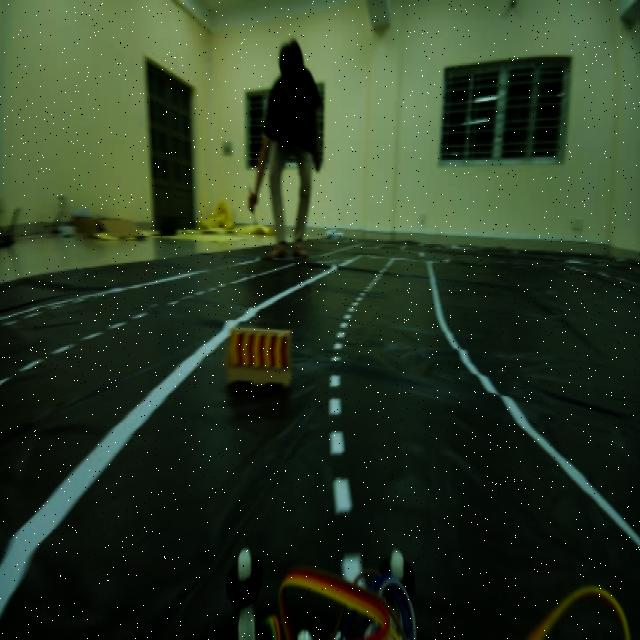roadblock: (224, 312, 299, 406)
